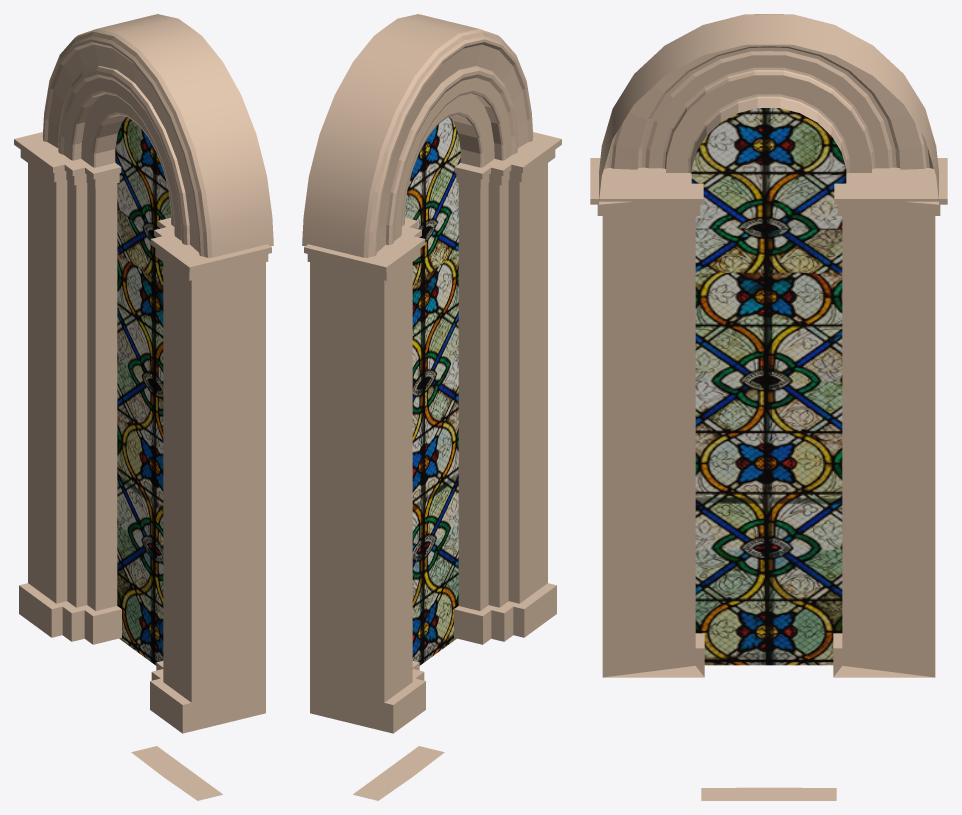
File: BC_IndiseArcWindow_A_03.fbx
The picture shows the model from 3 angles, left to right: view 1: azimuth 30°, elevation 25°; view 2: azimuth 150°, elevation 25°; view 3: azimuth 270°, elevation 25°; orthographic projection.
Parts seen in each view (by area): view 1: BC_IndiseArcWindow_A_03; view 2: BC_IndiseArcWindow_A_03; view 3: BC_IndiseArcWindow_A_03.
Boxes of the visible parts, box(x1,y1,x2,y2) form: BC_IndiseArcWindow_A_03: box(14, 14, 273, 800); BC_IndiseArcWindow_A_03: box(302, 14, 561, 800); BC_IndiseArcWindow_A_03: box(590, 14, 947, 800).
Size of the model in its own units: 167 by 1327 by 568.
Materials: 2 (1 with a texture image).
